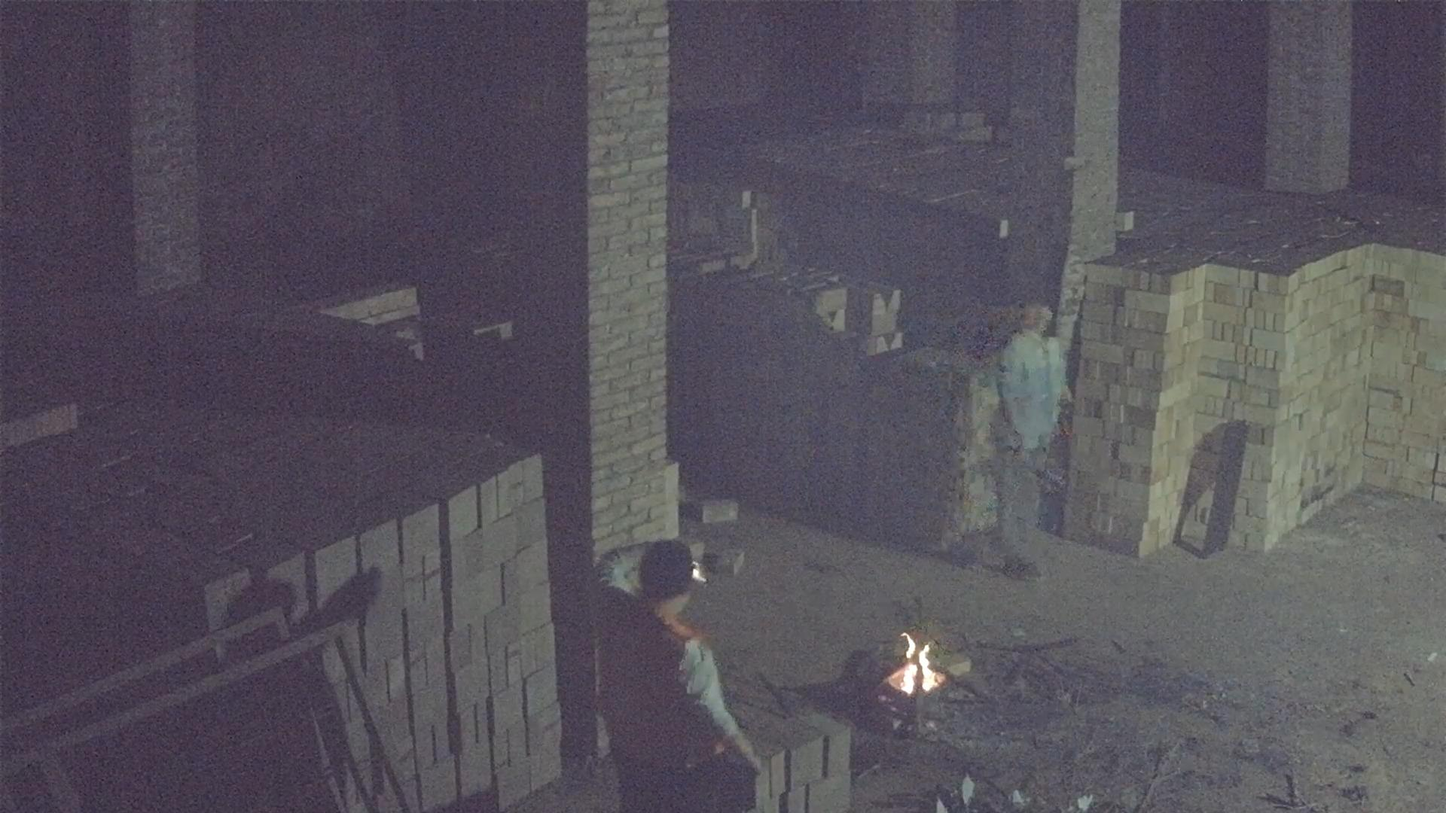fire: (888, 633, 944, 695)
